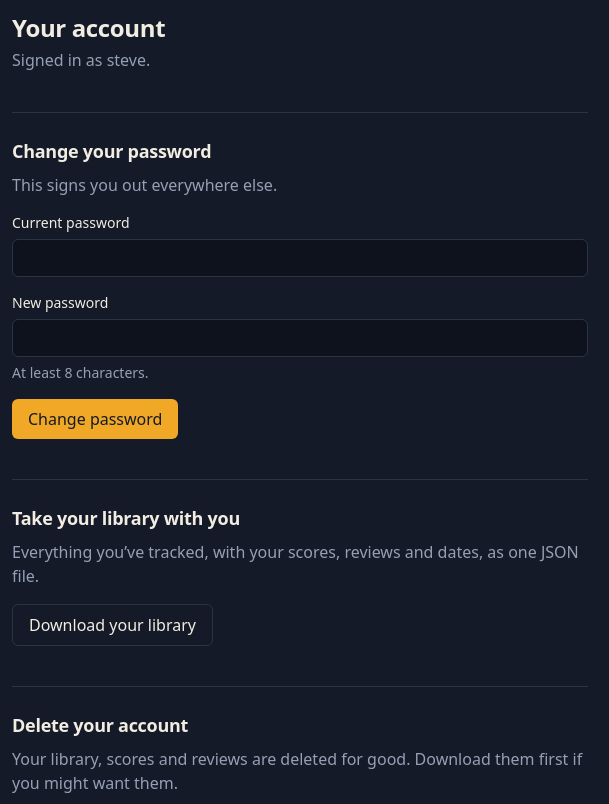
Scenario: AccountPage › changes the password and clears the form
In the password field labelled "Current password": (300, 258) [12, 239, 588, 277], type "password1234"
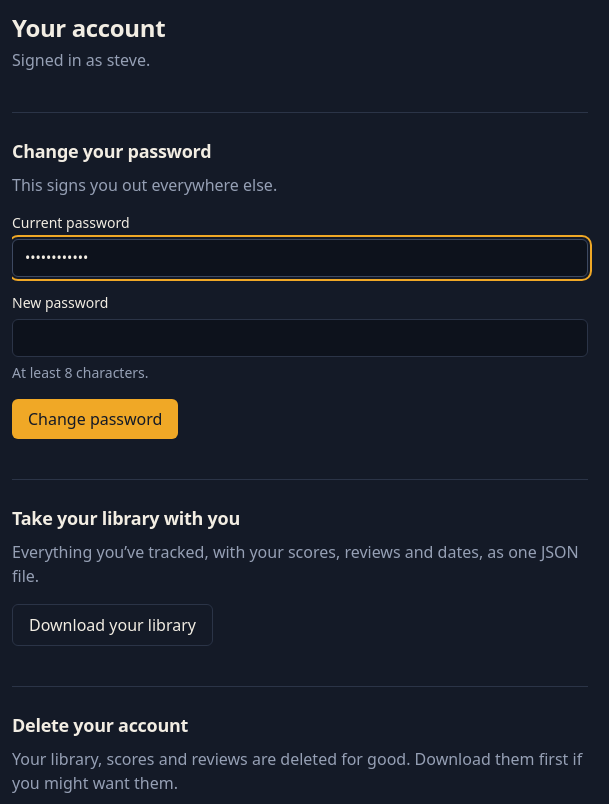
In the password field labelled "New password At least 8 characters.": (300, 338) [12, 319, 588, 357], type "a much better one"
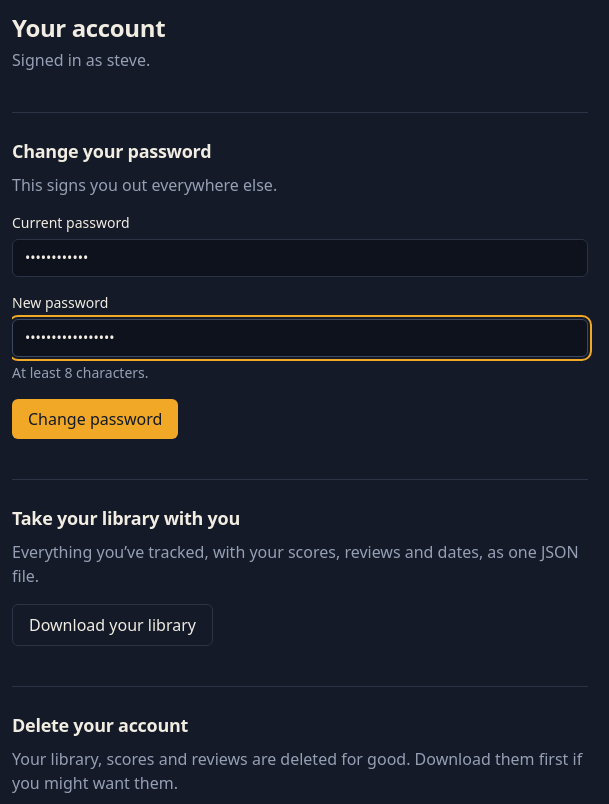
Click the button "Change password": (95, 419) [12, 399, 178, 439]
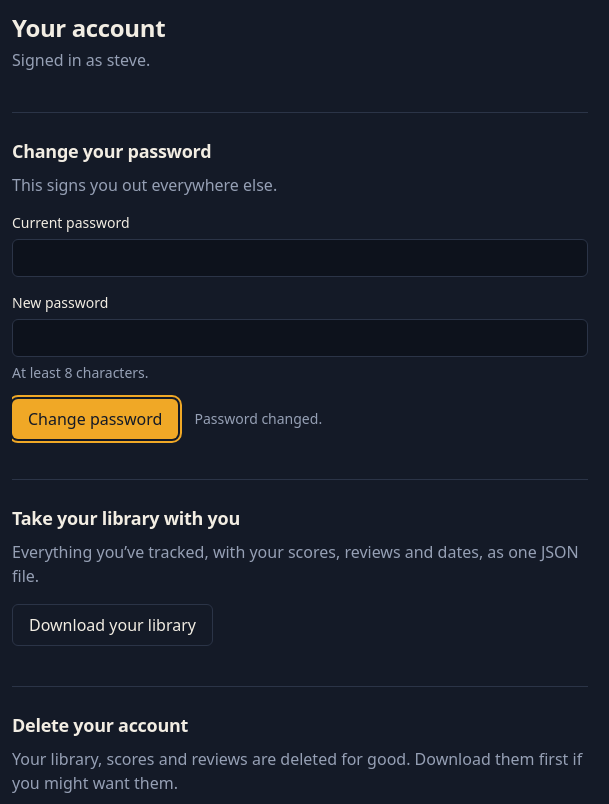
Expected: the text "Password changed." is shown, [194, 409, 322, 429]
Expected: the password field labelled "Current password" is empty, [12, 239, 588, 277]
